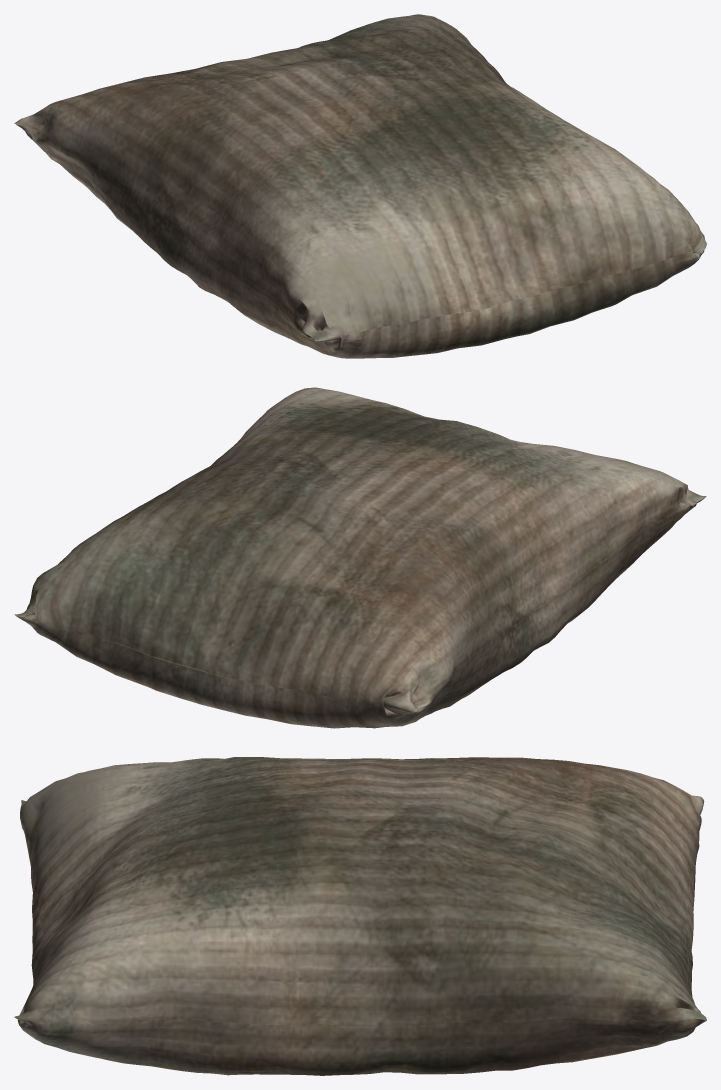
File: dirty_cushion.glb
3 renders of one model, top to bottom at view 1: azimuth 30°, elevation 25°; view 2: azimuth 150°, elevation 25°; view 3: azimuth 270°, elevation 25°, orthographic. The views are drawn at different scales.
Visible parts, largest first — view 1: Object_2; view 2: Object_2; view 3: Object_2.
Boxes of the visible parts, x1,y1,x2,y2 form: Object_2: (14,14,706,358); Object_2: (14,387,706,728); Object_2: (14,757,706,1075).
Size of the model in its own units: 2.39 by 0.8751 by 3.08.
1 material, 1 textured.
